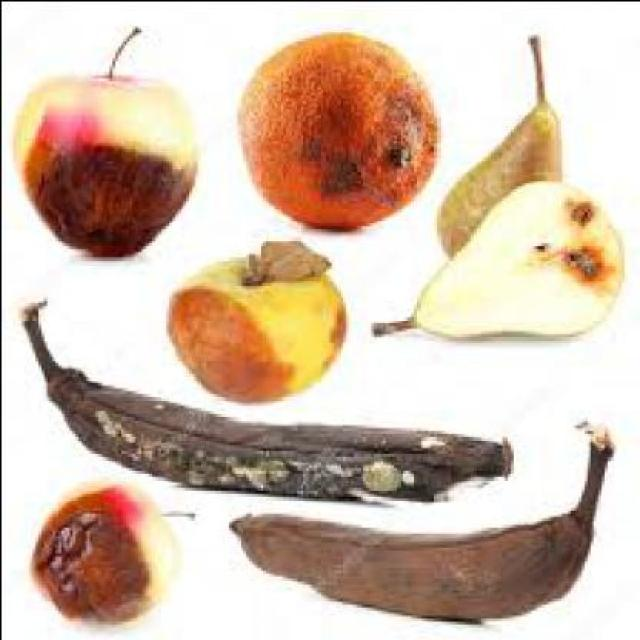BIODEGRADABLE: (17, 293, 509, 501), (225, 418, 609, 614), (11, 22, 194, 256), (368, 171, 620, 335), (233, 28, 433, 228), (432, 32, 560, 256), (162, 256, 341, 404), (29, 484, 162, 618), (250, 236, 324, 279)
